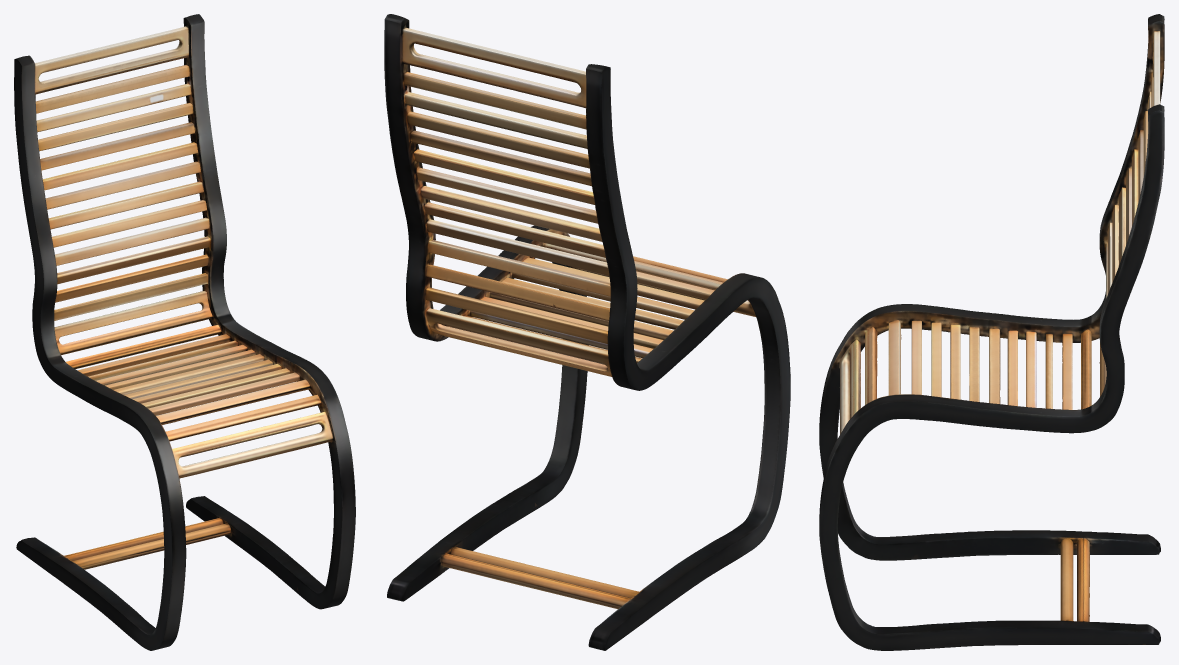
3 renders of one model, left to right at view 1: azimuth 30°, elevation 25°; view 2: azimuth 150°, elevation 25°; view 3: azimuth 270°, elevation 25°, orthographic. The views are drawn at different scales.
Parts seen in each view (by area): view 1: root.1, root.0, root.4, root.3, root.5, root.2, root.6, root.7, root.8, root.9, root.10, root.13 (+2 smaller); view 2: root.1, root.0, root.4, root.5, root.2, root.7, root.3, root.6, root.8, root.12, root.10, root.13 (+2 smaller); view 3: root.0, root.1, root.3, root.2, root.6, root.7, root.4, root.11, root.5.
Part boxes in pixels (<box>): root.1: <box>14,55,186,650</box>; root.0: <box>183,14,355,609</box>; root.4: <box>40,122,206,247</box>; root.3: <box>148,372,332,478</box>; root.5: <box>35,26,191,132</box>; root.2: <box>54,291,231,569</box>; root.6: <box>77,334,264,394</box>; root.7: <box>124,359,290,408</box>; root.8: <box>38,103,193,151</box>; root.9: <box>55,217,209,265</box>; root.10: <box>54,273,207,320</box>; root.13: <box>55,254,208,302</box>; root.1: <box>586,64,790,650</box>; root.0: <box>384,14,588,601</box>; root.4: <box>410,130,605,257</box>; root.5: <box>402,27,587,148</box>; root.2: <box>426,308,639,608</box>; root.7: <box>502,257,704,329</box>; root.3: <box>544,243,755,316</box>; root.6: <box>450,292,673,364</box>; root.8: <box>407,111,589,168</box>; root.12: <box>428,239,610,296</box>; root.10: <box>425,287,607,343</box>; root.13: <box>426,264,609,320</box>; root.0: <box>819,104,1164,650</box>; root.1: <box>819,14,1164,560</box>; root.3: <box>839,320,921,434</box>; root.2: <box>1060,329,1106,621</box>; root.6: <box>989,328,1072,409</box>; root.7: <box>931,322,979,401</box>; root.4: <box>1112,130,1143,282</box>; root.11: <box>1007,330,1017,406</box>; root.5: <box>1148,31,1160,133</box>.
Size of the model in its own units: 0.4103 by 1.06 by 0.6144.
Materials: 14 (14 with a texture image).
